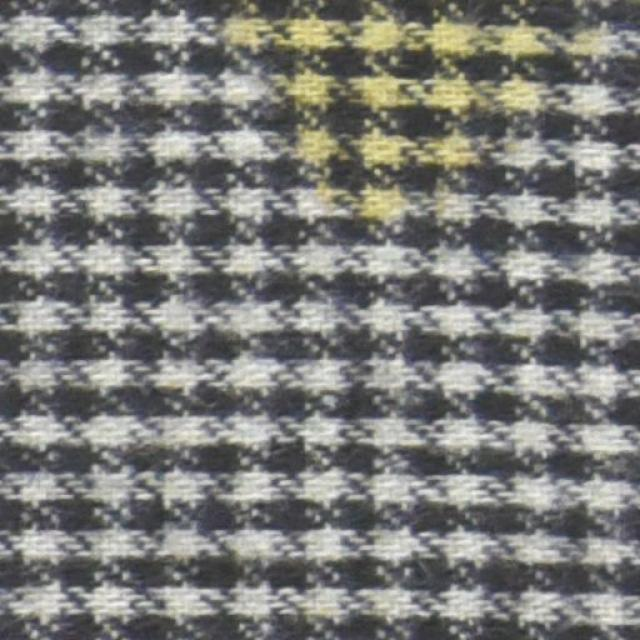Stain: (200, 0, 623, 241)
